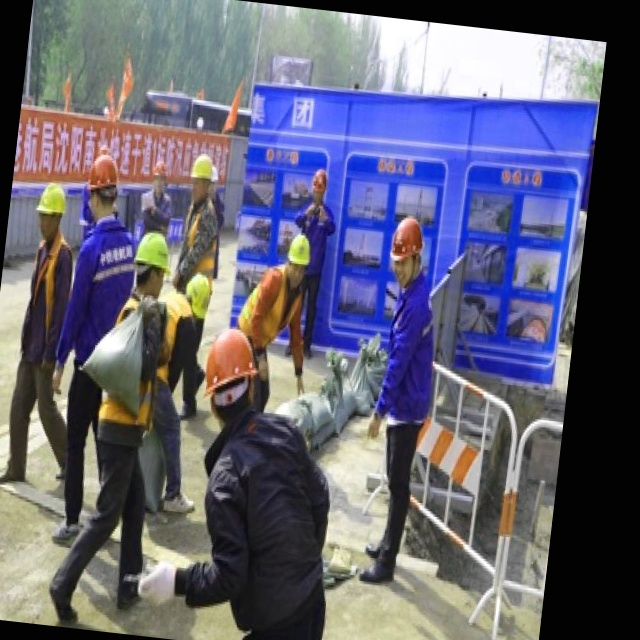Con_Casco: (132, 232, 175, 300), (388, 216, 426, 282), (34, 183, 69, 236)
